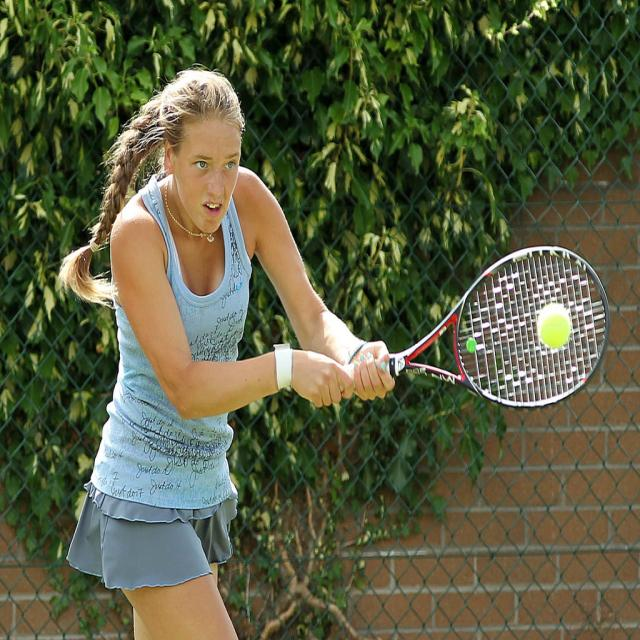Tennis ball: (535, 299, 570, 345)
